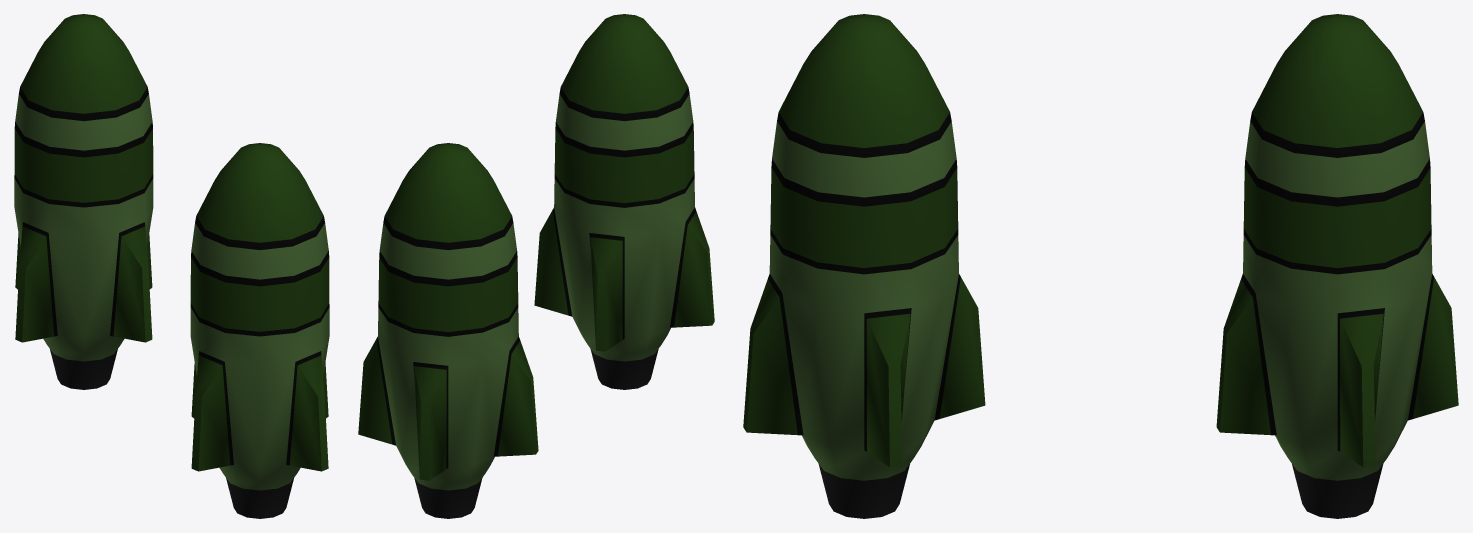
Rendered from RocketBarrel.fbx.
3 renders of one model, left to right at view 1: azimuth 30°, elevation 25°; view 2: azimuth 150°, elevation 25°; view 3: azimuth 270°, elevation 25°, orthographic. The views are drawn at different scales.
Parts seen in each view (by area): view 1: Rocket06_Green__1_, Rocket06_Green; view 2: Rocket06_Green, Rocket06_Green__1_; view 3: Rocket06_Green__1_, Rocket06_Green.
Boxes of the visible parts, x1,y1,x2,y2 form: Rocket06_Green__1_: [14, 14, 153, 389]; Rocket06_Green: [190, 143, 329, 518]; Rocket06_Green: [534, 14, 714, 389]; Rocket06_Green__1_: [358, 143, 538, 518]; Rocket06_Green__1_: [1216, 14, 1458, 518]; Rocket06_Green: [743, 14, 985, 518].
Size of the model in its own units: 2.05 by 4.53 by 6.05.
Materials: 1 (1 with a texture image).
